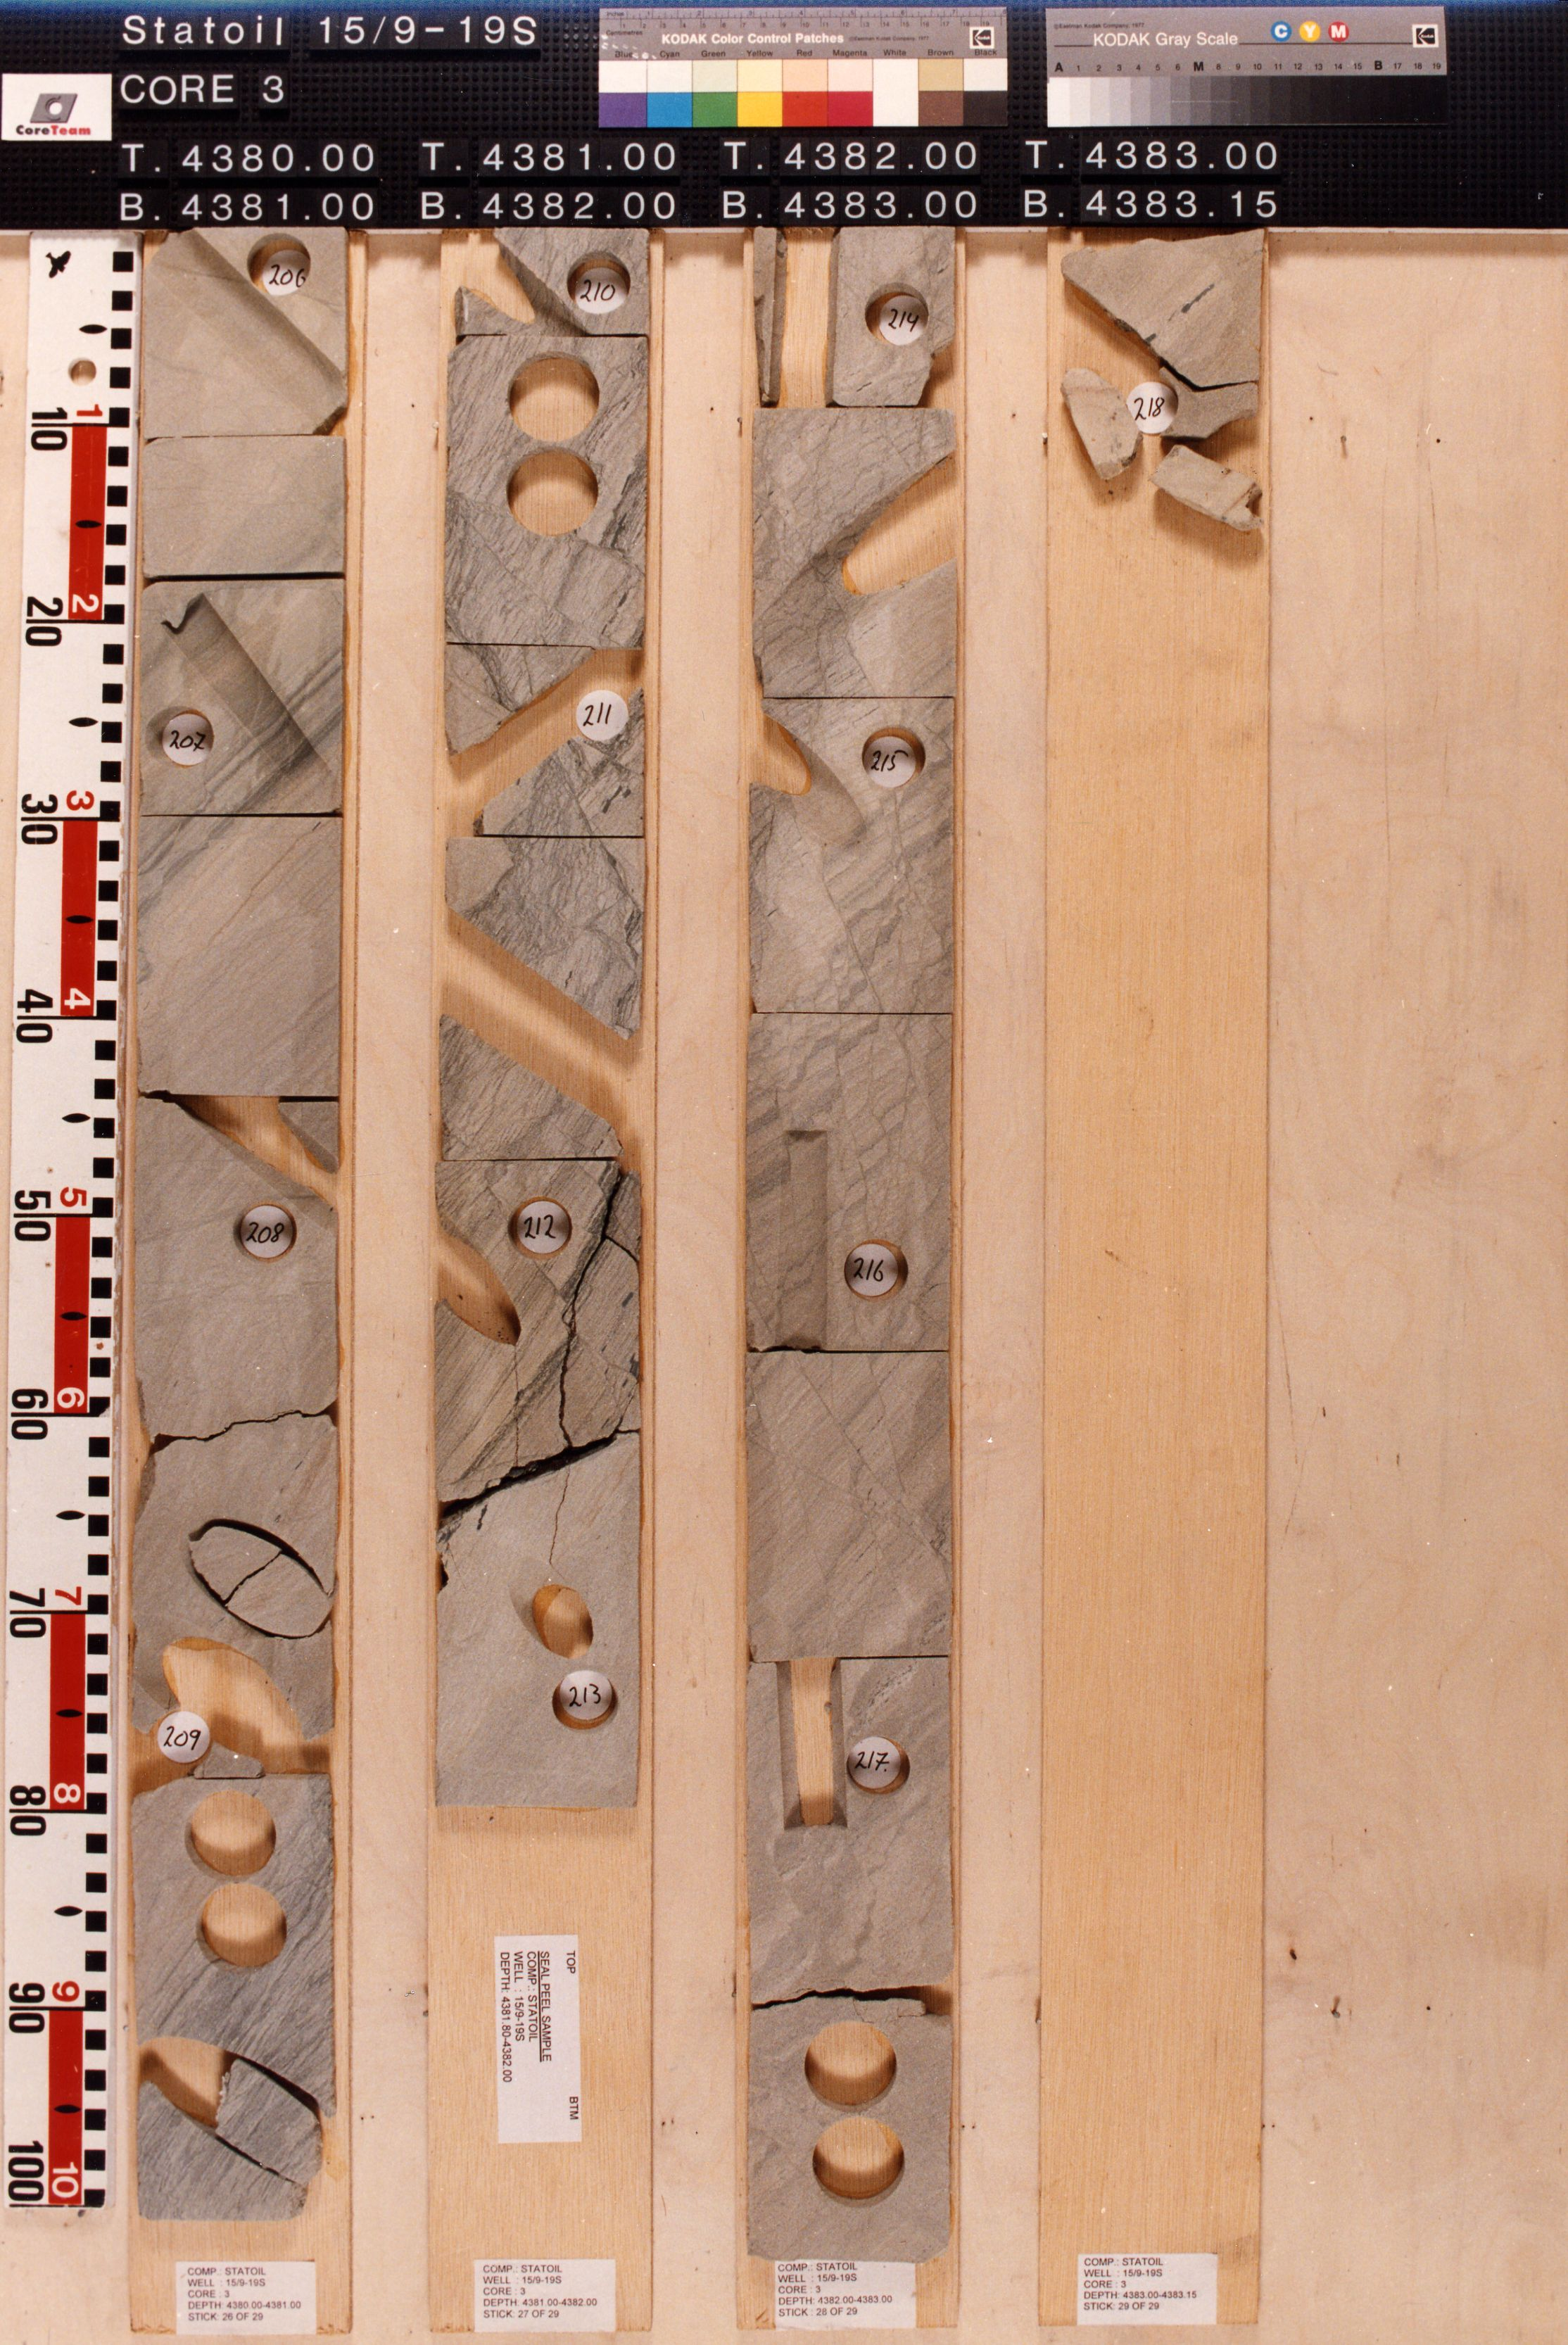core: (747, 226, 959, 2261), (136, 226, 345, 2219), (443, 226, 640, 1813), (1057, 229, 1265, 539)
